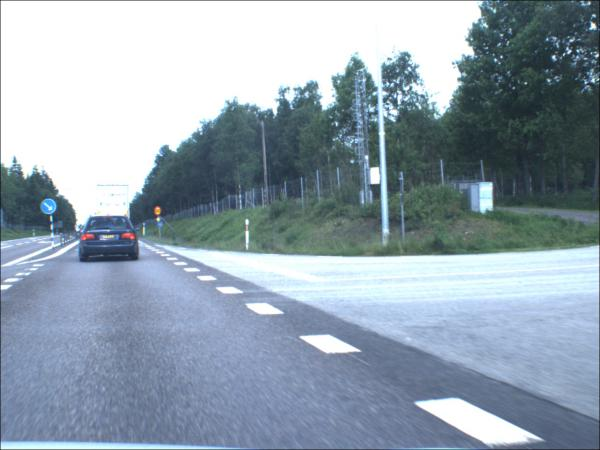100_SIGN: (156, 208, 163, 218)
PASS_RIGHT_SIDE: (42, 200, 58, 216)
PRIORITY_ROAD: (158, 219, 163, 224)
